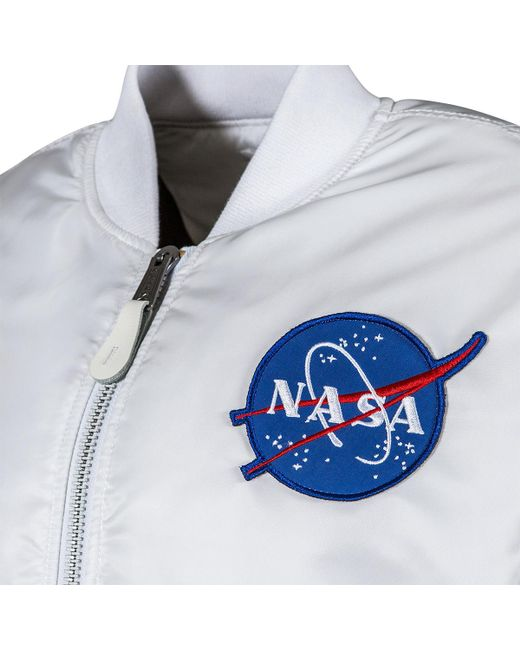NASA: (227, 305, 493, 501)
